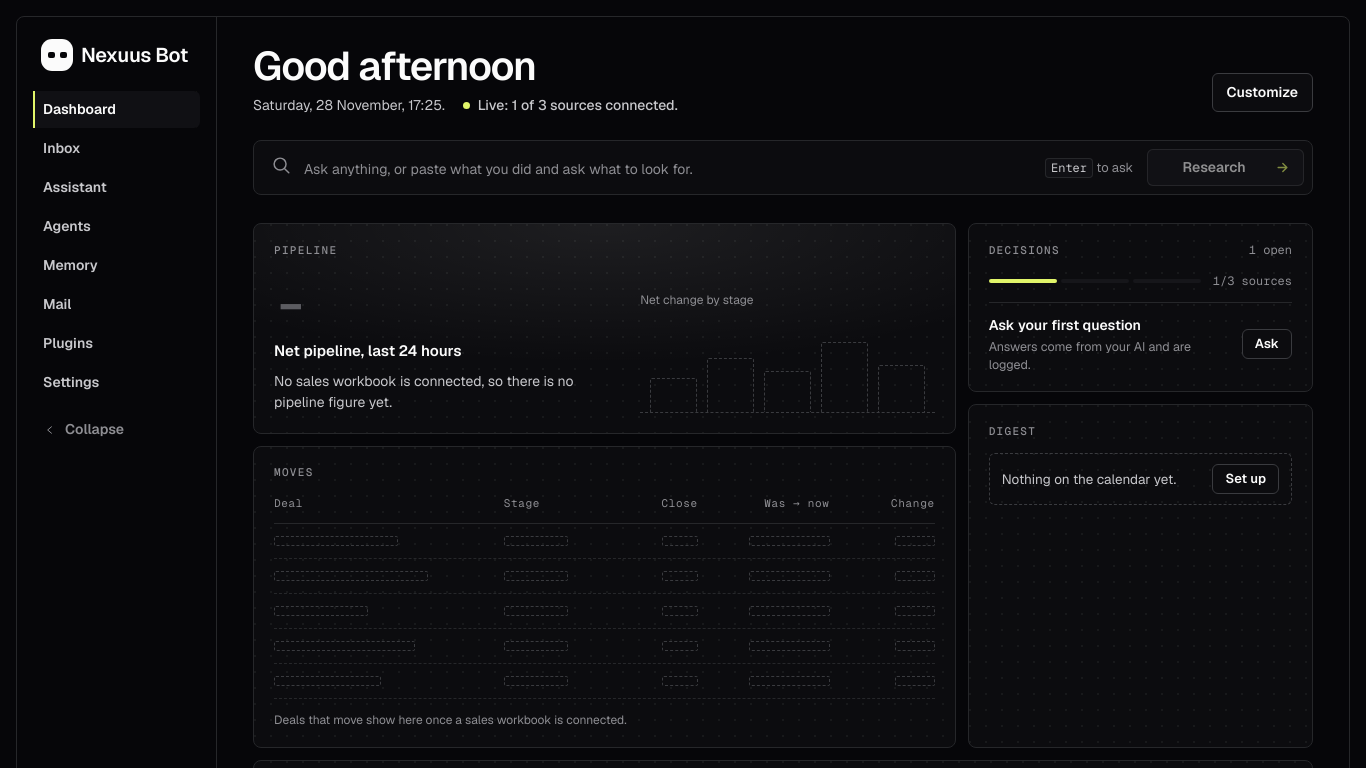
Test case: the research command bar and the answer region › shows nothing under 100 ms, then the control and a shaped placeholder, and replaces it in place
Later steps or results of the test are not shown.
Replace the text in the text box named "Research question" with "What changed?" at {"x": 668, "y": 170}, box [304,153,1031,186]
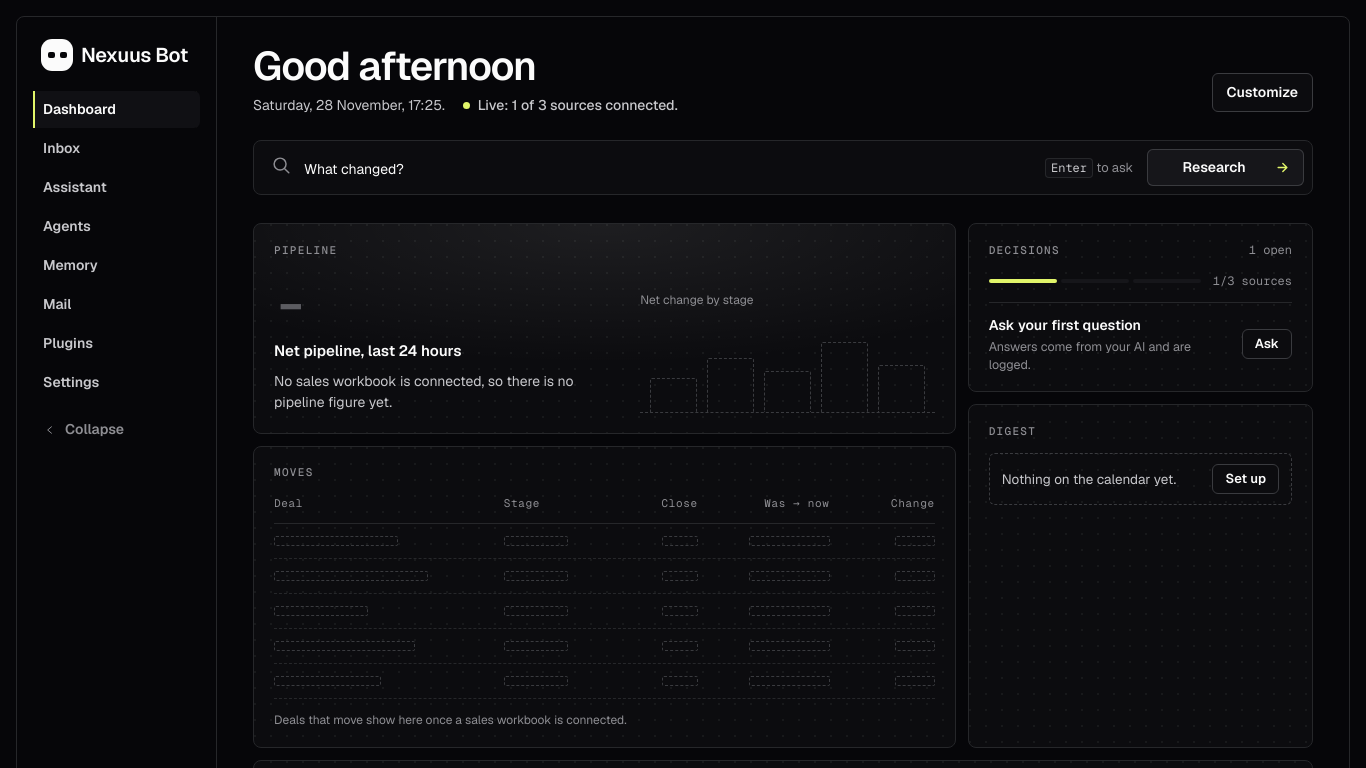
Click the button "Research" at {"x": 1226, "y": 168}, box [1147,149,1304,186]
Wait 100 ms
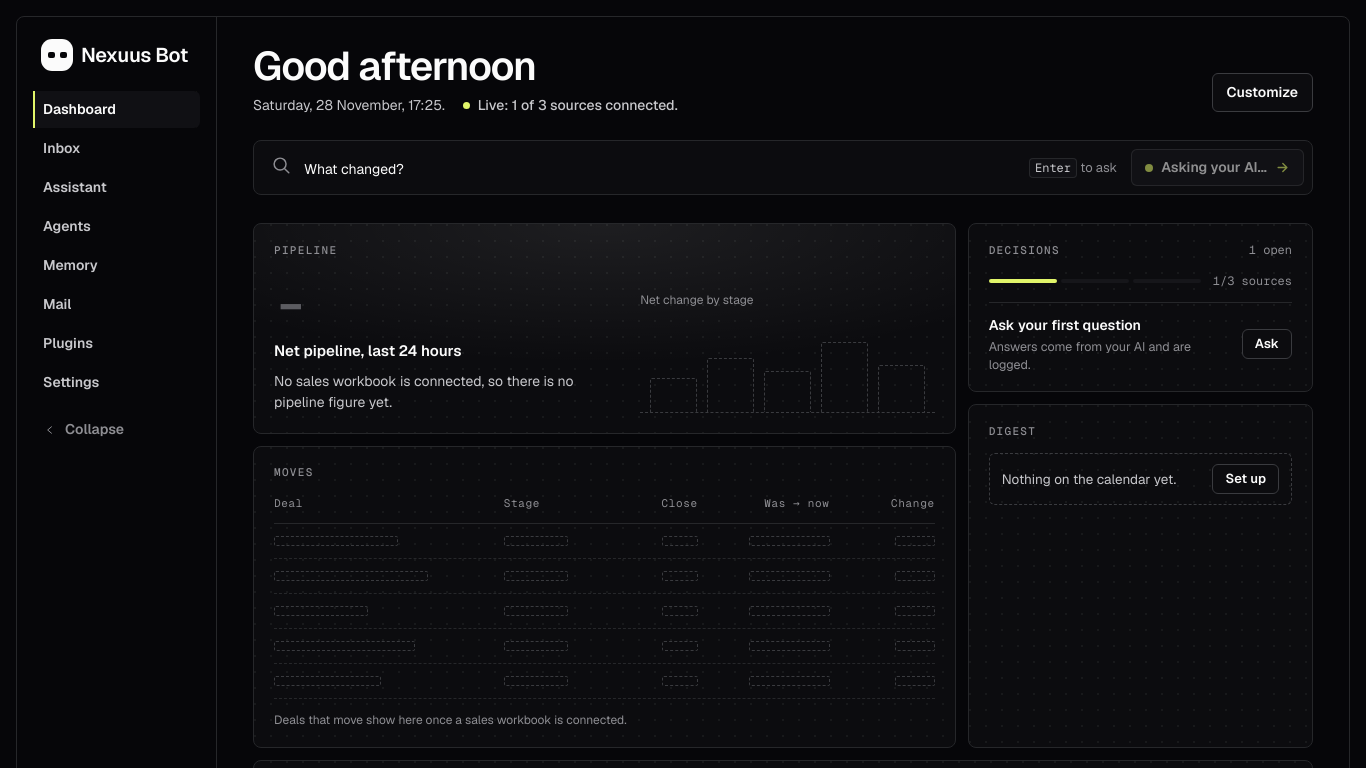
Check: the button named "Research" is disabled
// A second press during the wait starts nothing.
Click the button named "Research" at {"x": 1218, "y": 168}, box [1131,149,1304,186]
(page scrolled)
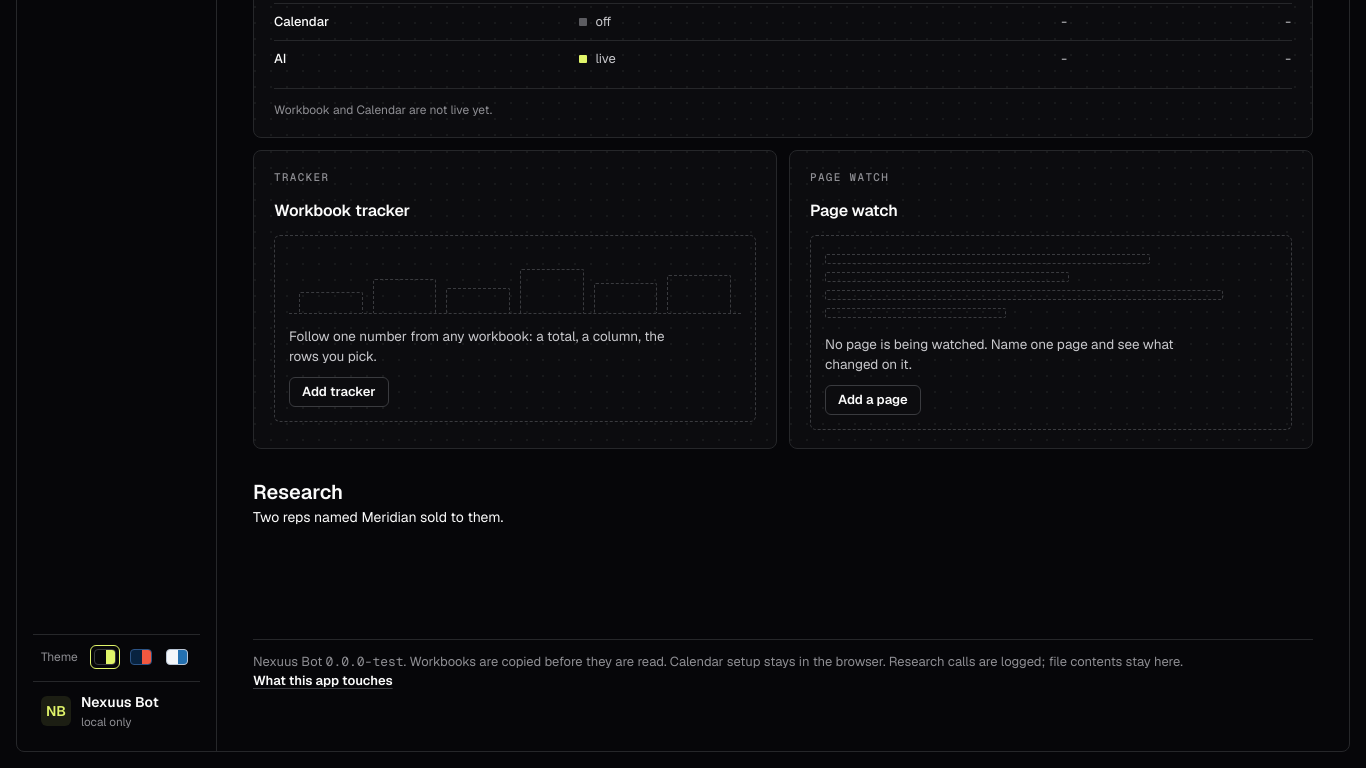
Check: the message with class "brief-answer-copy" reads "Two reps named Meridian sold to them.", box [253,508,503,526]
